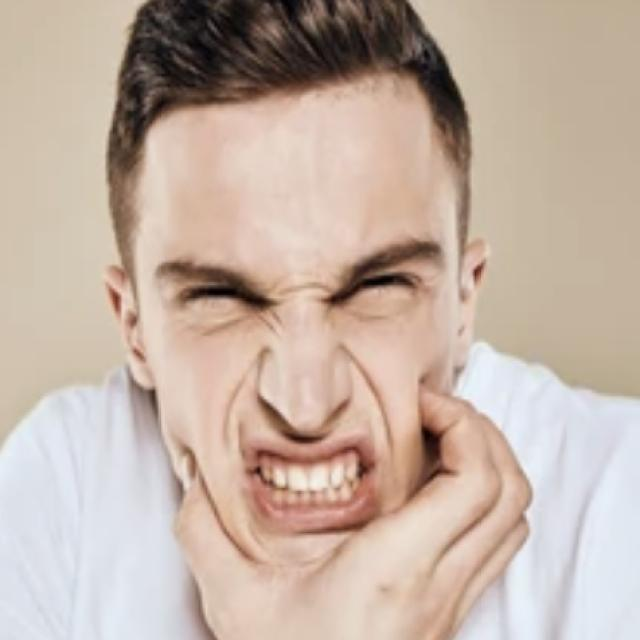angry: (95, 14, 493, 596)
